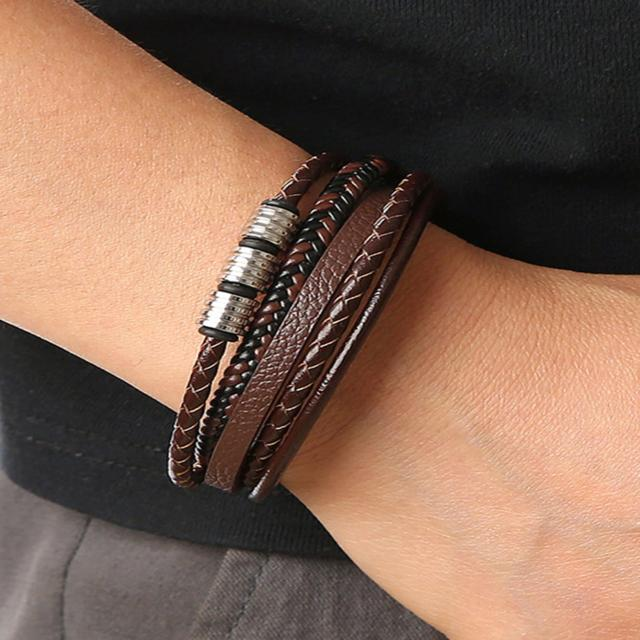bracelet: (92, 80, 534, 595)
